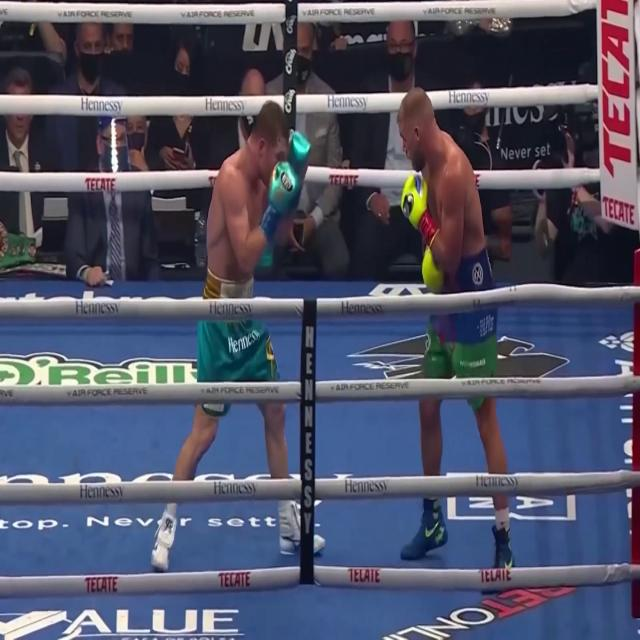boxer_1: (397, 85, 488, 267)
boxer_2: (206, 101, 289, 280)
gloves_1: (401, 172, 444, 292)
gloves_2: (261, 131, 311, 242)
